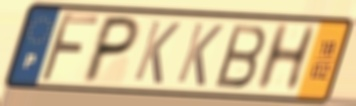B: (212, 22, 269, 91)
F: (37, 10, 102, 85)
H: (251, 22, 321, 94)
K: (130, 18, 183, 87), (173, 20, 226, 89)
P: (78, 13, 144, 85)
